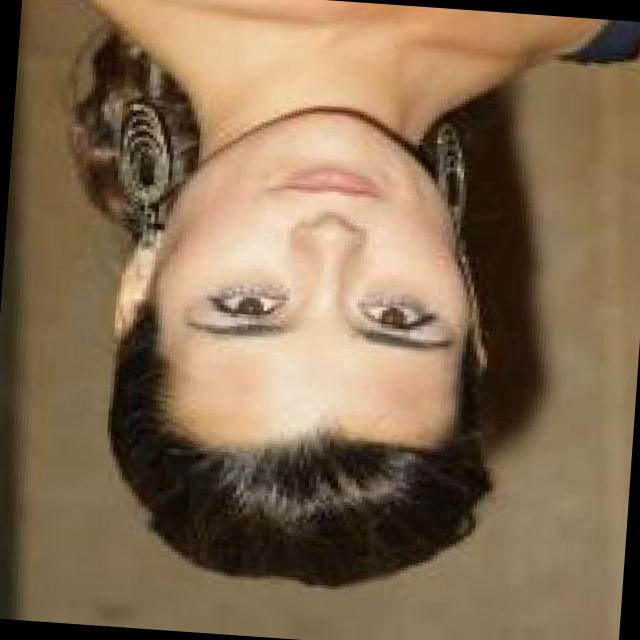bareface: (116, 100, 482, 580)
